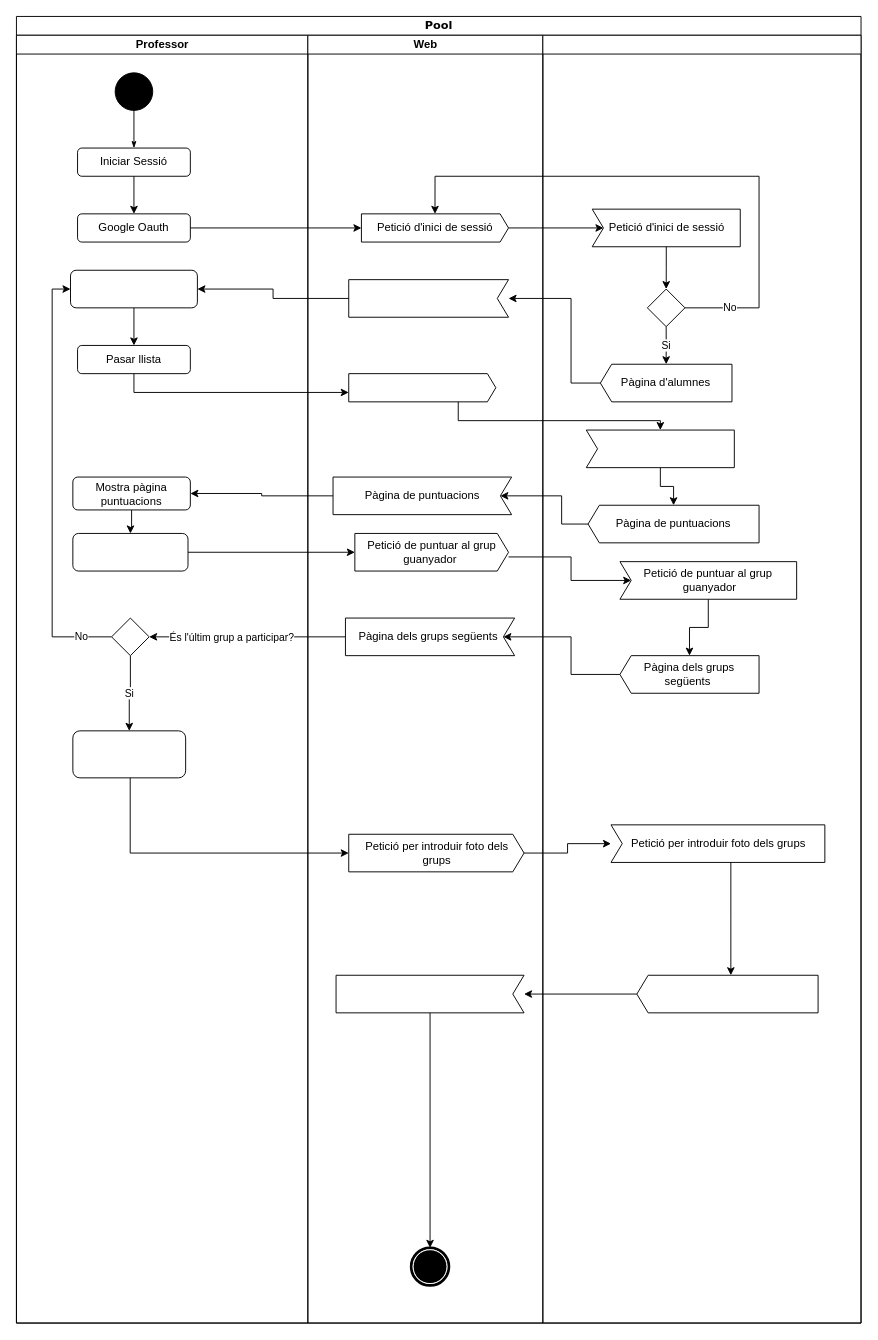
Image size: 878x1340. Some labels were removed from this diagram. The box of each missing label's shape, as (x1, y1, x2, y2) in pixels:
Base de dades: (542, 34, 861, 1323)
Enviar imatge a l'administrador: (335, 974, 524, 1013)
Enviar imatge al administrador: (636, 974, 818, 1013)
Mostra la llista d'alumnes: (70, 269, 197, 308)
Petició de pasar llista: (348, 373, 496, 402)
Petició de passar llista: (585, 429, 734, 468)
Puntuar al grup guanyador: (72, 533, 188, 571)
Pàgina de llista d'alumnes: (348, 279, 509, 317)
Pàgina per introduir foto dels grups: (72, 730, 186, 778)
